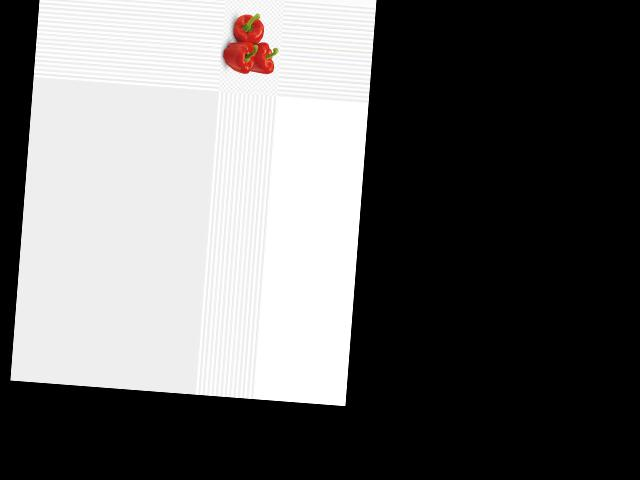bell_pepper: (229, 9, 269, 48)
